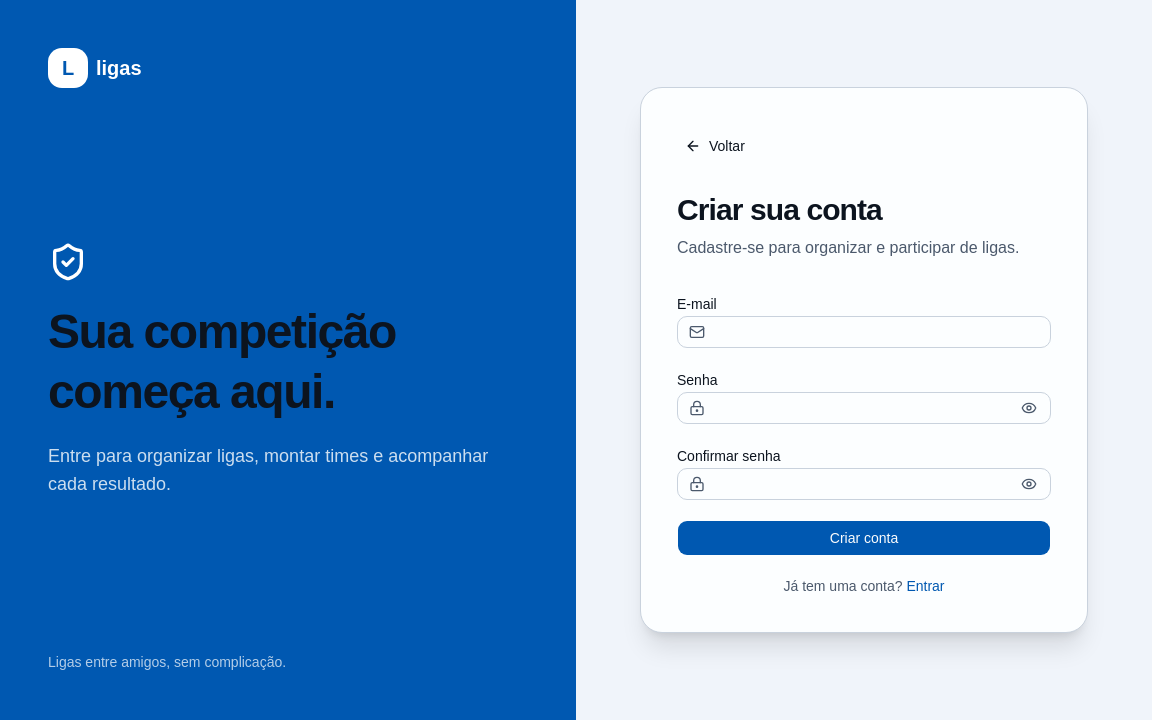
Test: authentication pages › rejects a short registration password and mismatched confirmation
The image size is (1152, 720).
In the field labelled "E-mail": {"x": 864, "y": 332} [677,316,1051,348], type "new@test.local"
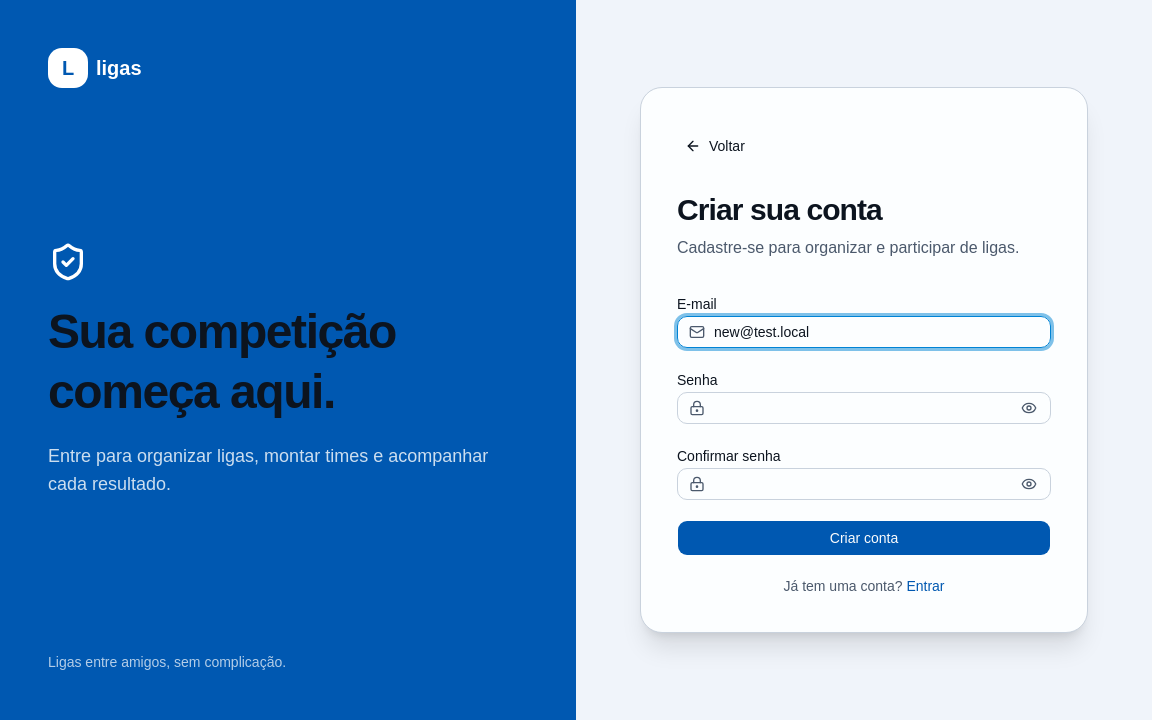
In the password field labelled "Senha": {"x": 864, "y": 408} [677,392,1051,424], type "123123"
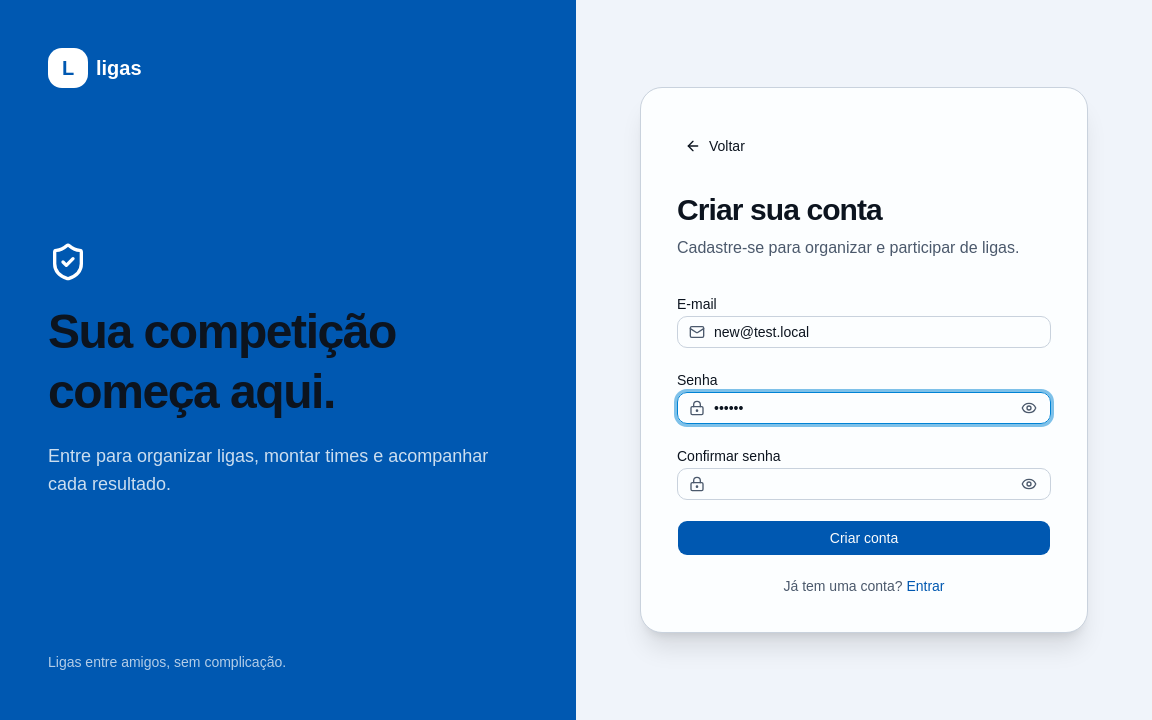
In the password field labelled "Confirmar senha": {"x": 864, "y": 484} [677,468,1051,500], type "different-password"
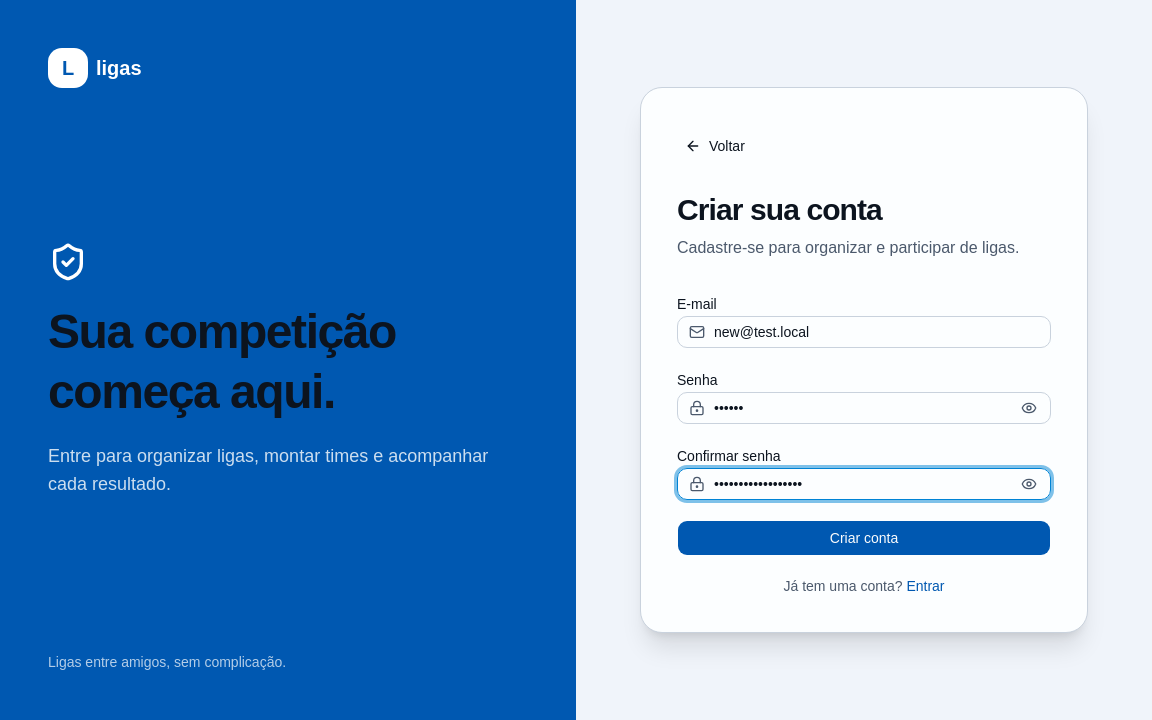
Click the button "Criar conta": {"x": 864, "y": 538} [677,520,1051,556]
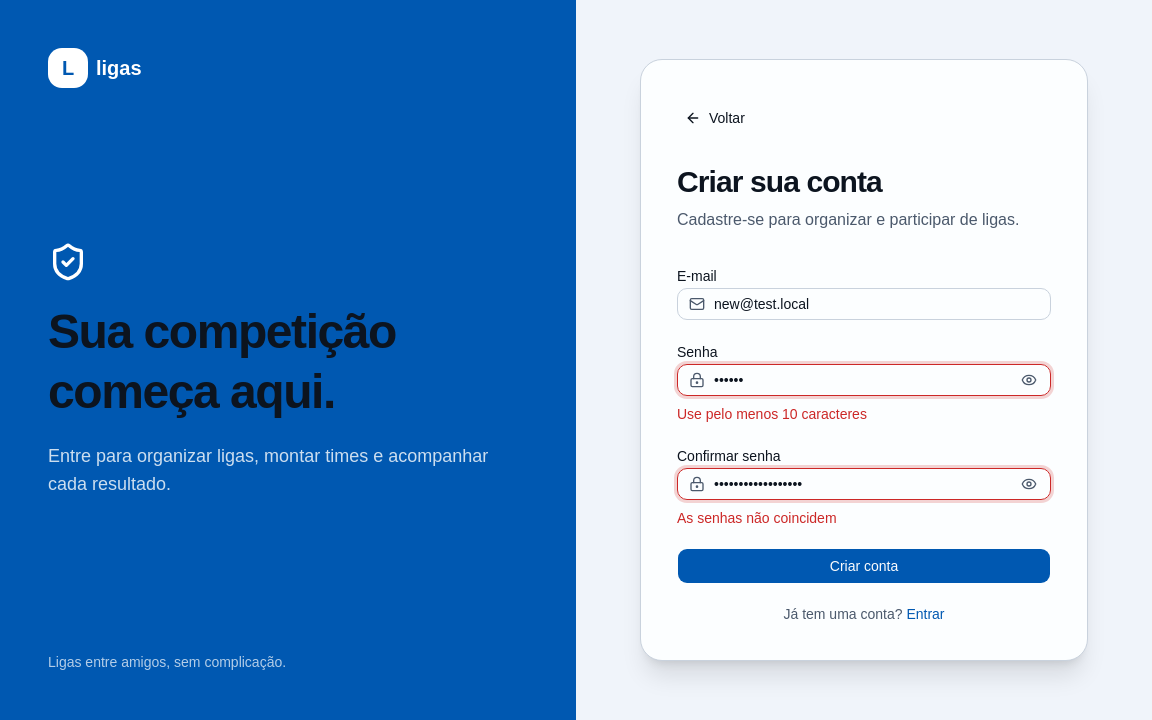
Check: the text "Use pelo menos 10 caracteres" is shown, box [677,406,867,422]
Check: the text "As senhas não coincidem" is shown, box [677,510,836,526]
